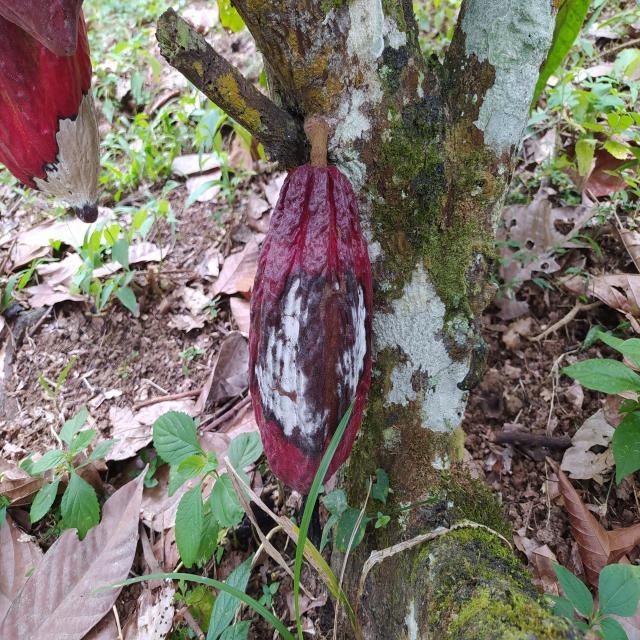Monilia: (244, 162, 376, 498), (0, 1, 100, 227)
Sana: (1, 2, 82, 54)
